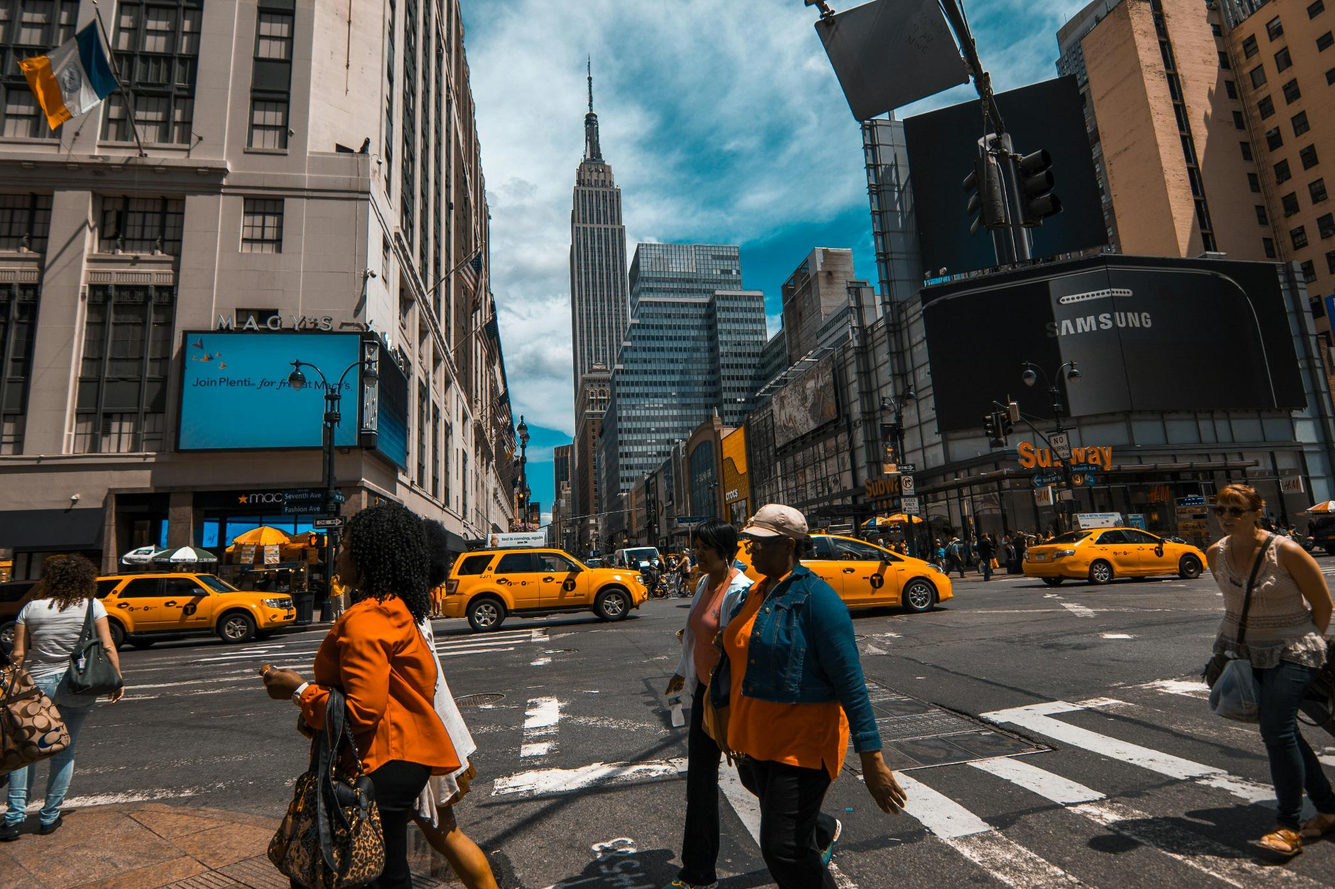car: (689, 523, 960, 621), (437, 551, 649, 635), (101, 573, 302, 646), (800, 534, 956, 617), (1021, 524, 1210, 583), (596, 546, 661, 570)
pedestrian: (696, 513, 920, 889), (283, 509, 502, 883), (1197, 484, 1327, 853), (0, 550, 121, 836), (669, 527, 742, 889), (974, 533, 998, 581), (1005, 532, 1028, 576), (948, 537, 971, 578)
